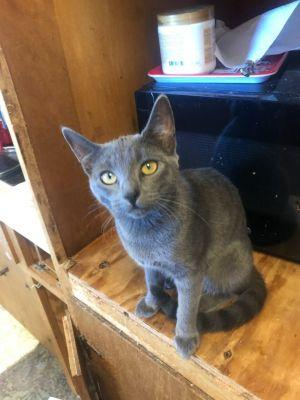rblue: (55, 89, 196, 237)
